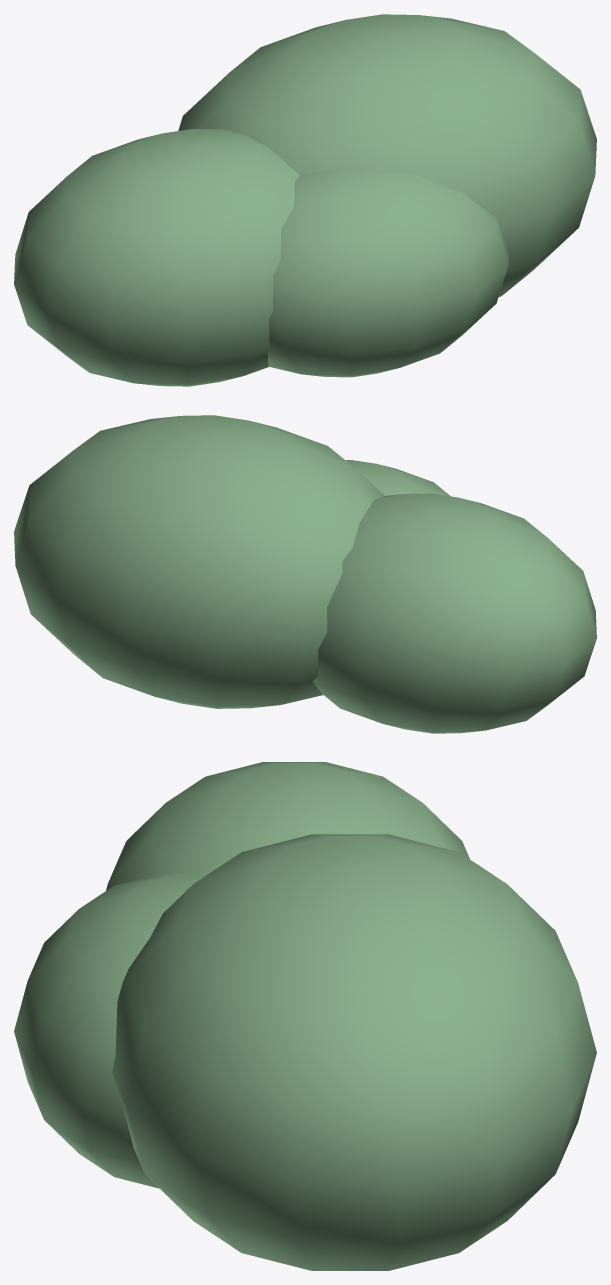
File: RiverShrub.fbx
3 renders of one model, top to bottom at view 1: azimuth 30°, elevation 25°; view 2: azimuth 150°, elevation 25°; view 3: azimuth 270°, elevation 25°, orthographic. The views are drawn at different scales.
Parts seen in each view (by area): view 1: RiverShrub; view 2: RiverShrub; view 3: RiverShrub.
Part boxes in pixels (x1=…): RiverShrub: x1=14, y1=14, x2=596, y2=386; RiverShrub: x1=14, y1=415, x2=596, y2=733; RiverShrub: x1=14, y1=762, x2=596, y2=1270.
Bounding box in the file's own units: 1.55 × 0.715 × 1.04.
